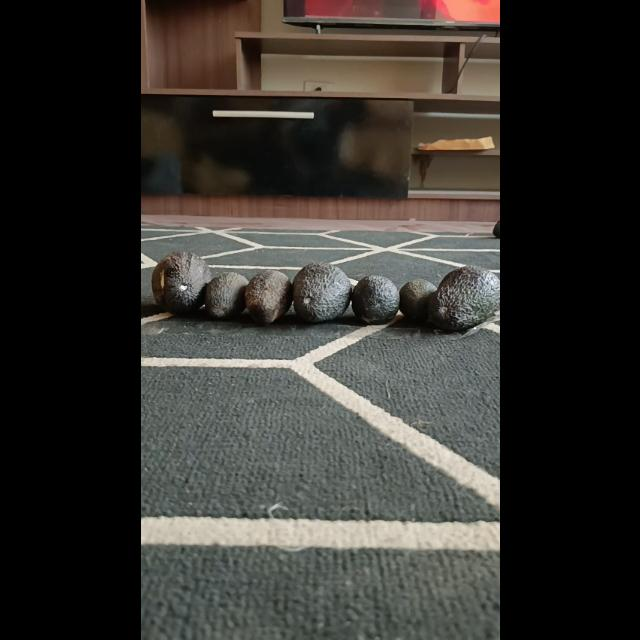Primera: (428, 266, 500, 330), (150, 252, 210, 314), (292, 262, 351, 322)
Segunda: (244, 270, 292, 324), (350, 275, 400, 325), (204, 272, 248, 320)
Tercera: (398, 279, 437, 323)
